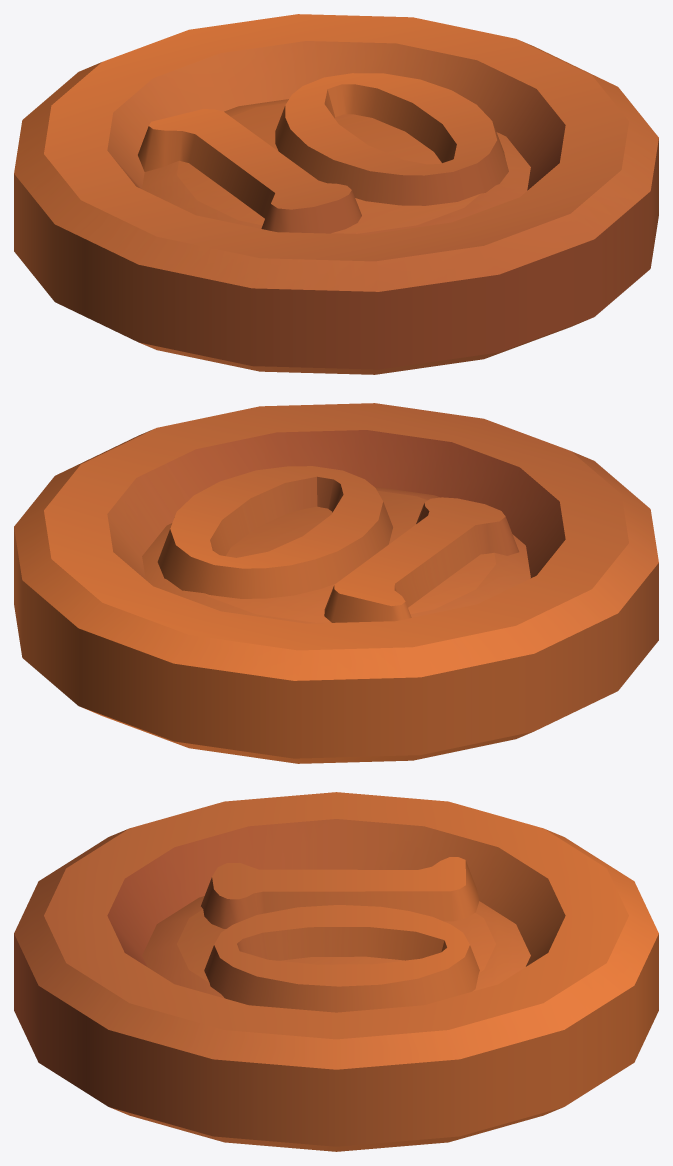
Rendered from coin_10_copper.glb.
The picture shows the model from 3 angles, top to bottom: view 1: azimuth 30°, elevation 25°; view 2: azimuth 150°, elevation 25°; view 3: azimuth 270°, elevation 25°; orthographic projection.
Visible parts, largest first — view 1: coin_10_copper; view 2: coin_10_copper; view 3: coin_10_copper.
Part boxes in pixels (left/top/right/bottom): coin_10_copper: left=14, top=14, right=658, bottom=374; coin_10_copper: left=14, top=403, right=658, bottom=763; coin_10_copper: left=14, top=792, right=658, bottom=1151.
Bounding box in the file's own units: 1.04 × 0.2 × 1.04.
1 material, 1 textured.
